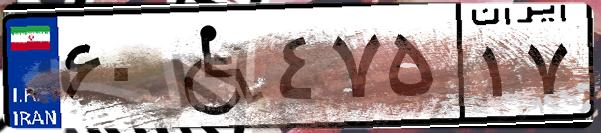0: (110, 28, 158, 98)
1: (475, 38, 525, 113)
4: (270, 28, 330, 110)
5: (385, 28, 445, 110)
6: (57, 26, 110, 100)
7: (330, 28, 385, 110), (525, 38, 570, 115)
ژ (معلولین و جانبازان): (158, 12, 270, 120)
